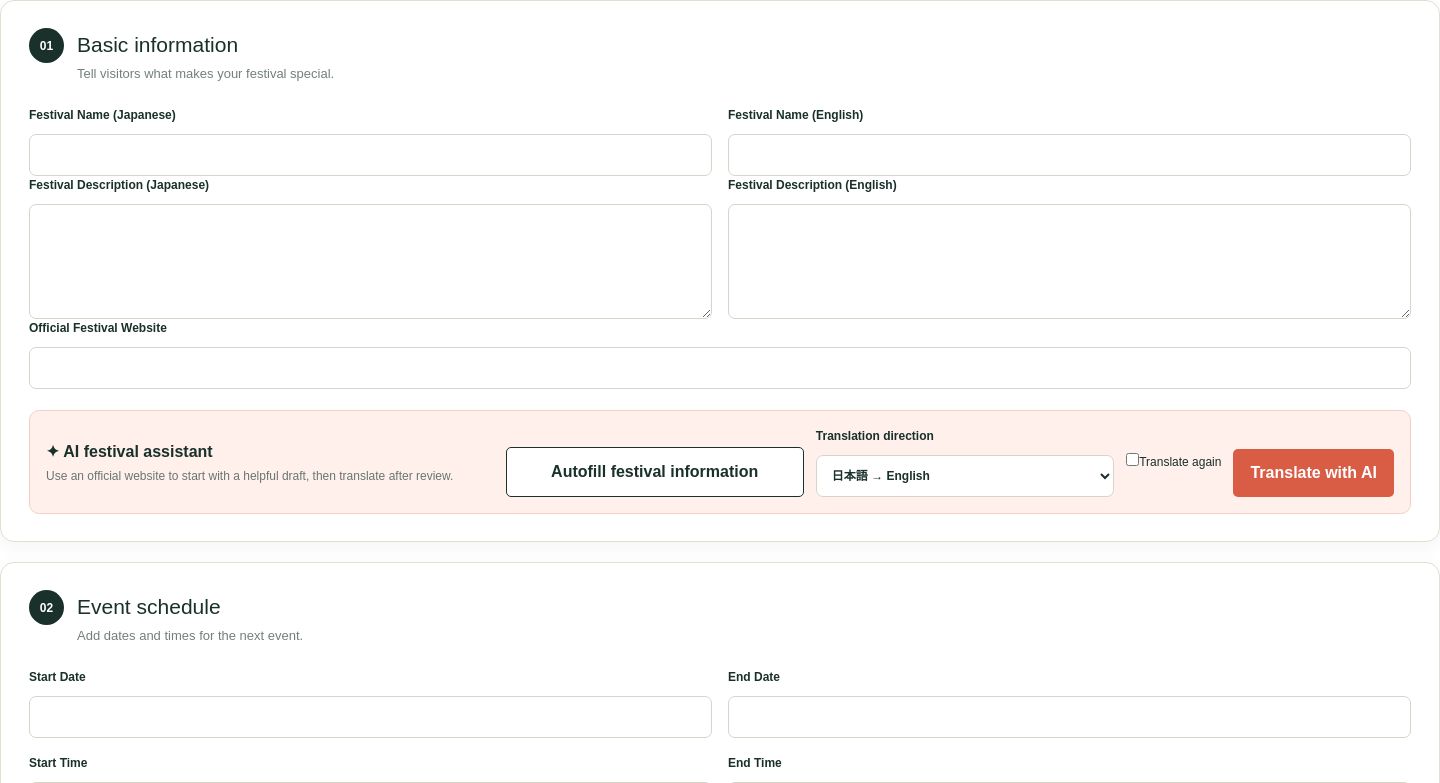
SubmissionForm Phase 2 › shows autofill and validates a missing URL without fetching
The width and height of the screenshot is (1440, 783).
Click the button "Autofill festival information" at (655, 472), box [506,447,804,497]
(page scrolled)
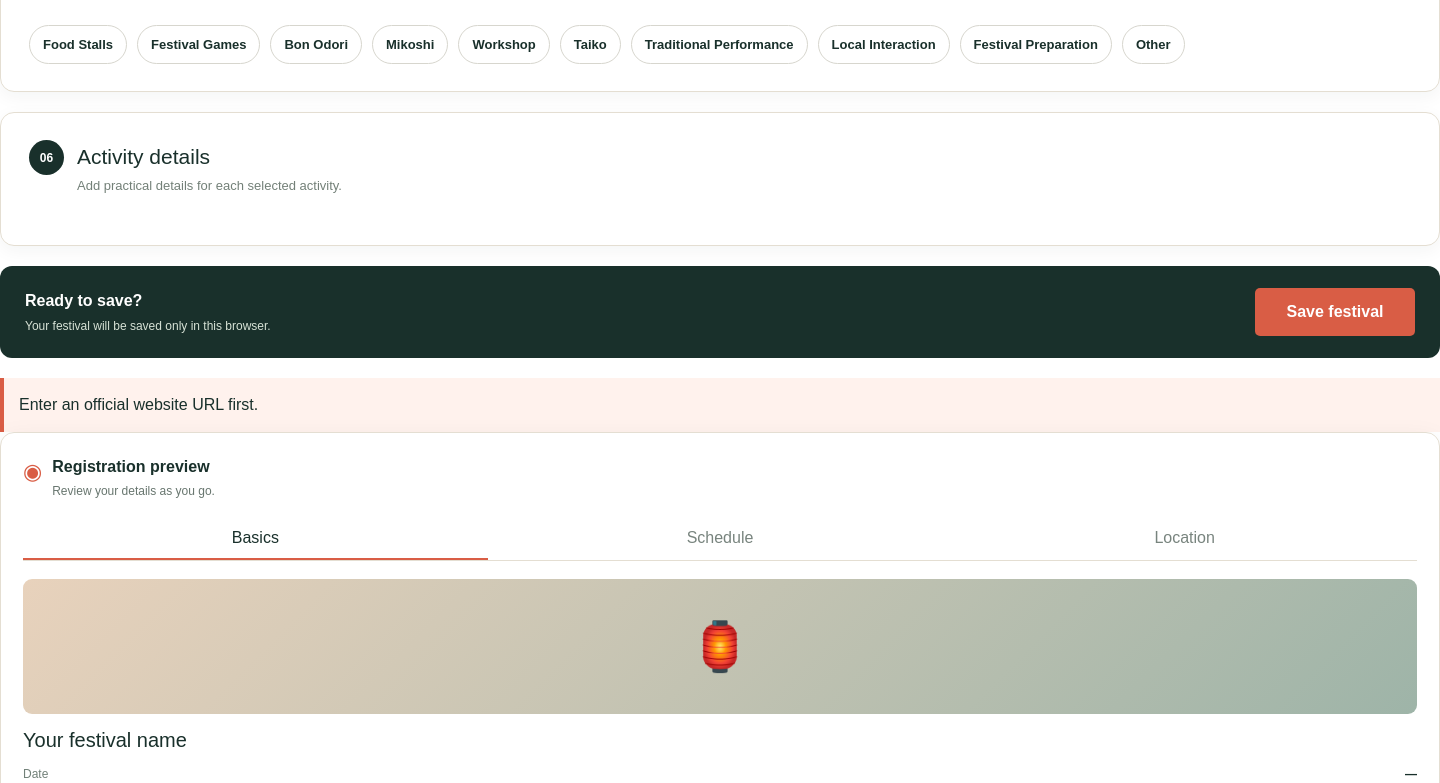
Check: the text "Enter an official website URL first." is shown, box [0,378,1439,432]
